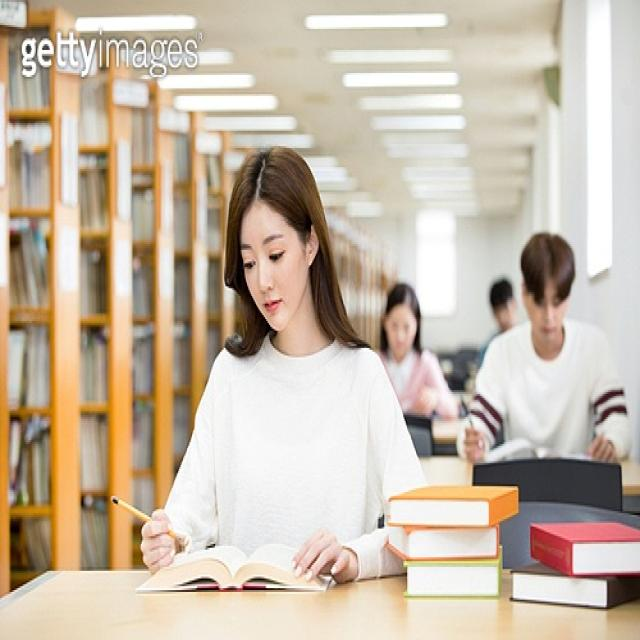studying-person: (108, 136, 512, 604)
